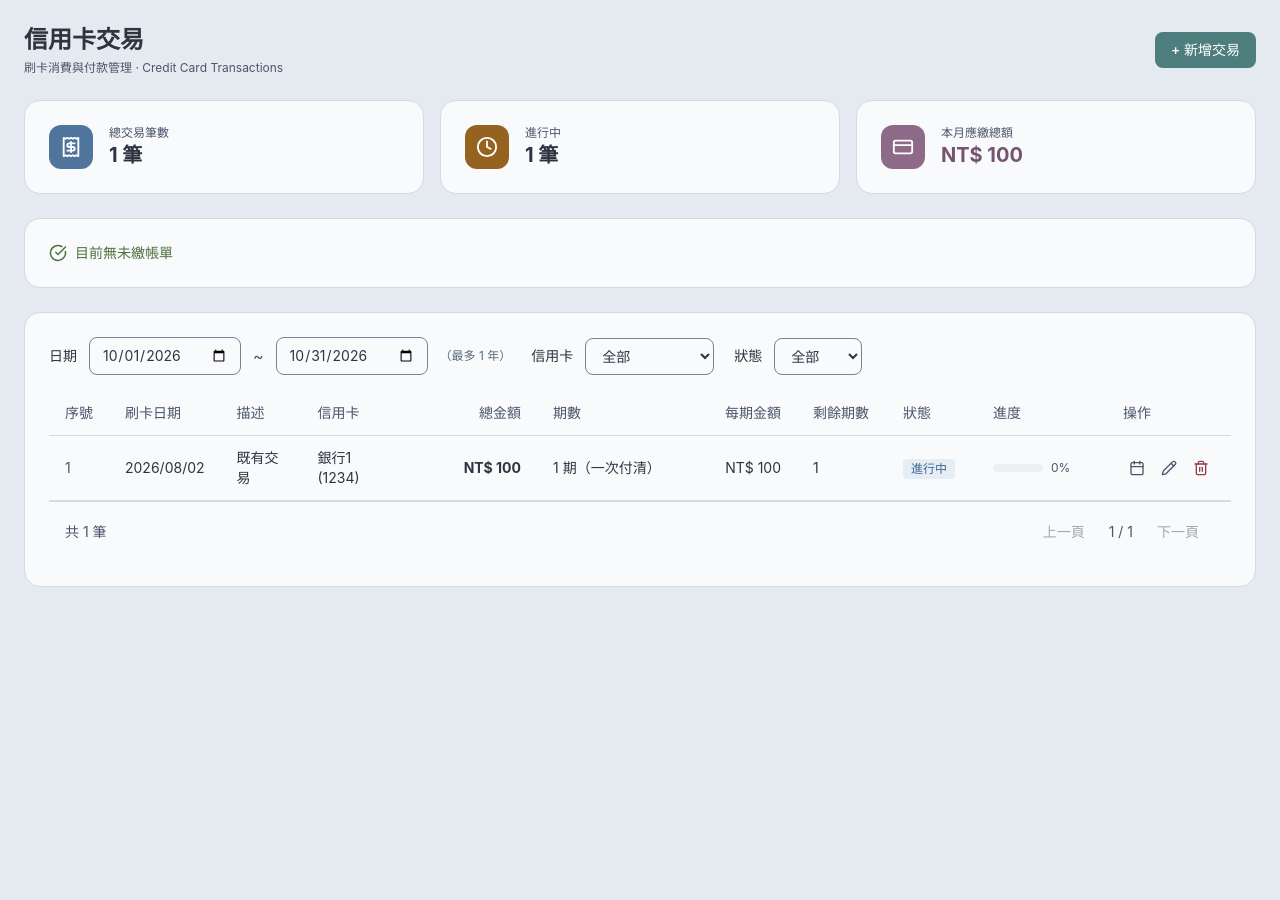
submits a manual selection after a default query failure, periods=1
Click the button "+ 新增交易" at (1205, 50), box [1155,32,1256,68]
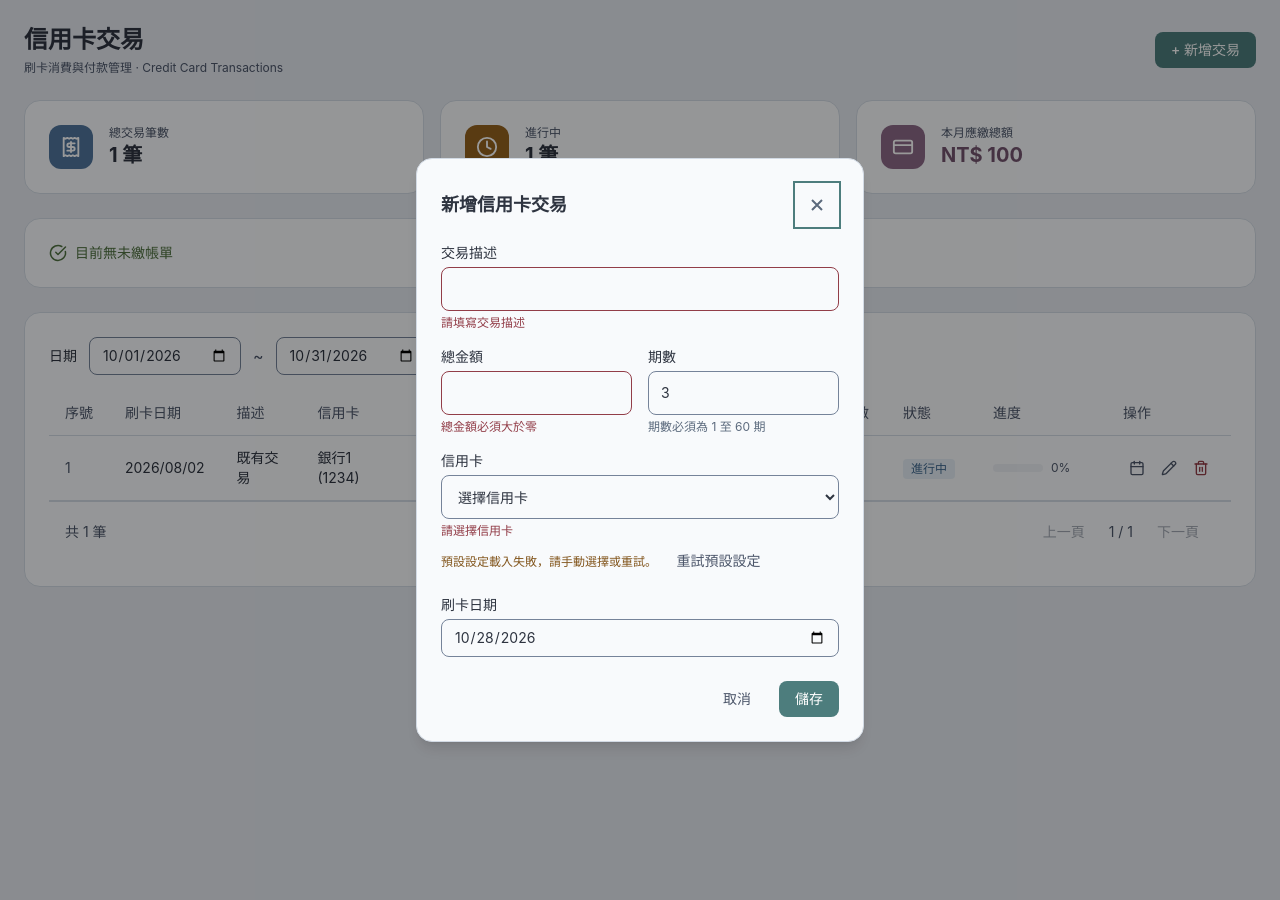
Select "銀行1 (1234)" in the dropdown labelled "信用卡" at (640, 497), box [441,475,839,519]
Type "100" into the number field labelled "總金額" at (536, 393), box [441,371,632,415]
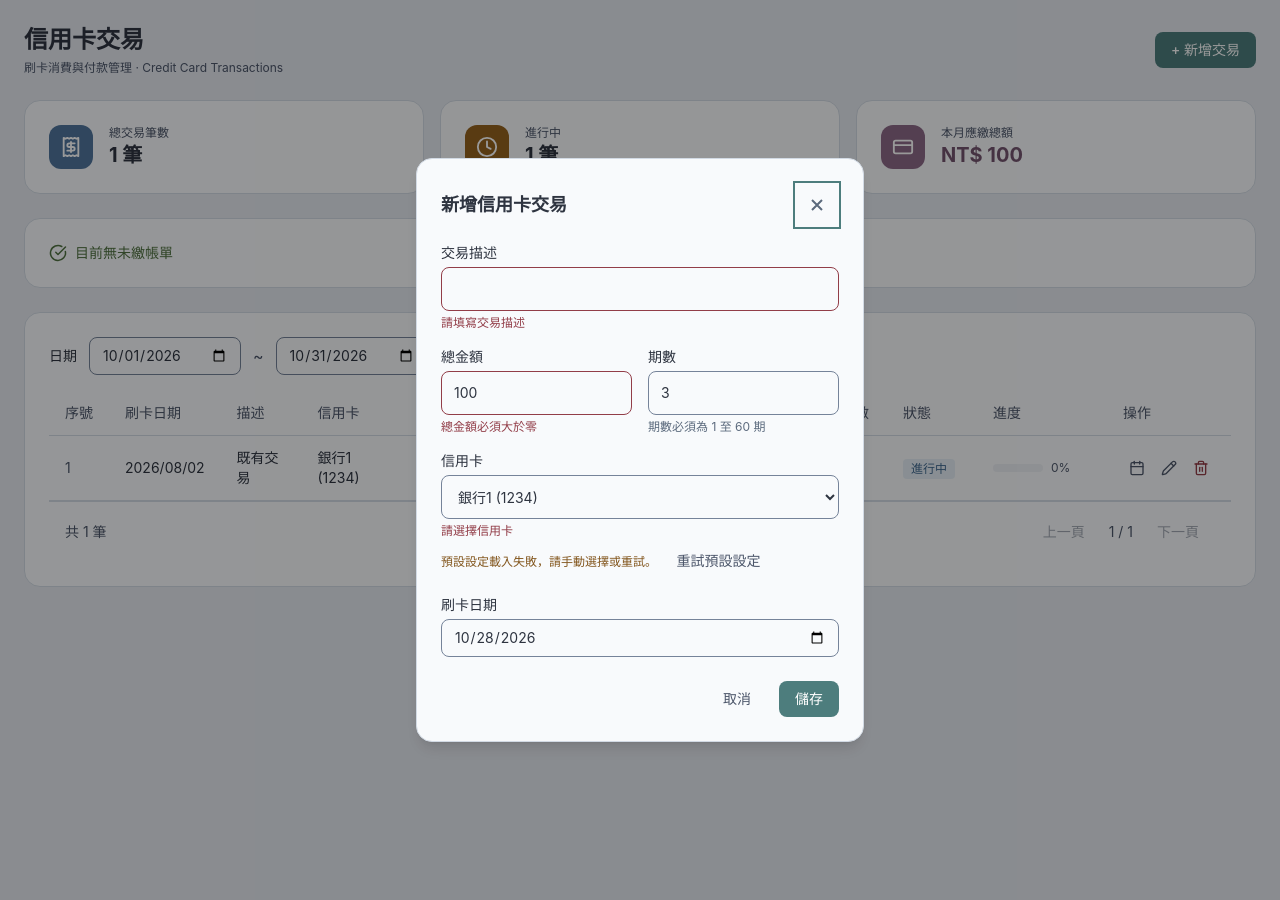
Type "測試交易" into the field with id "credit-card-transaction-description" at (640, 289), box [441,267,839,311]
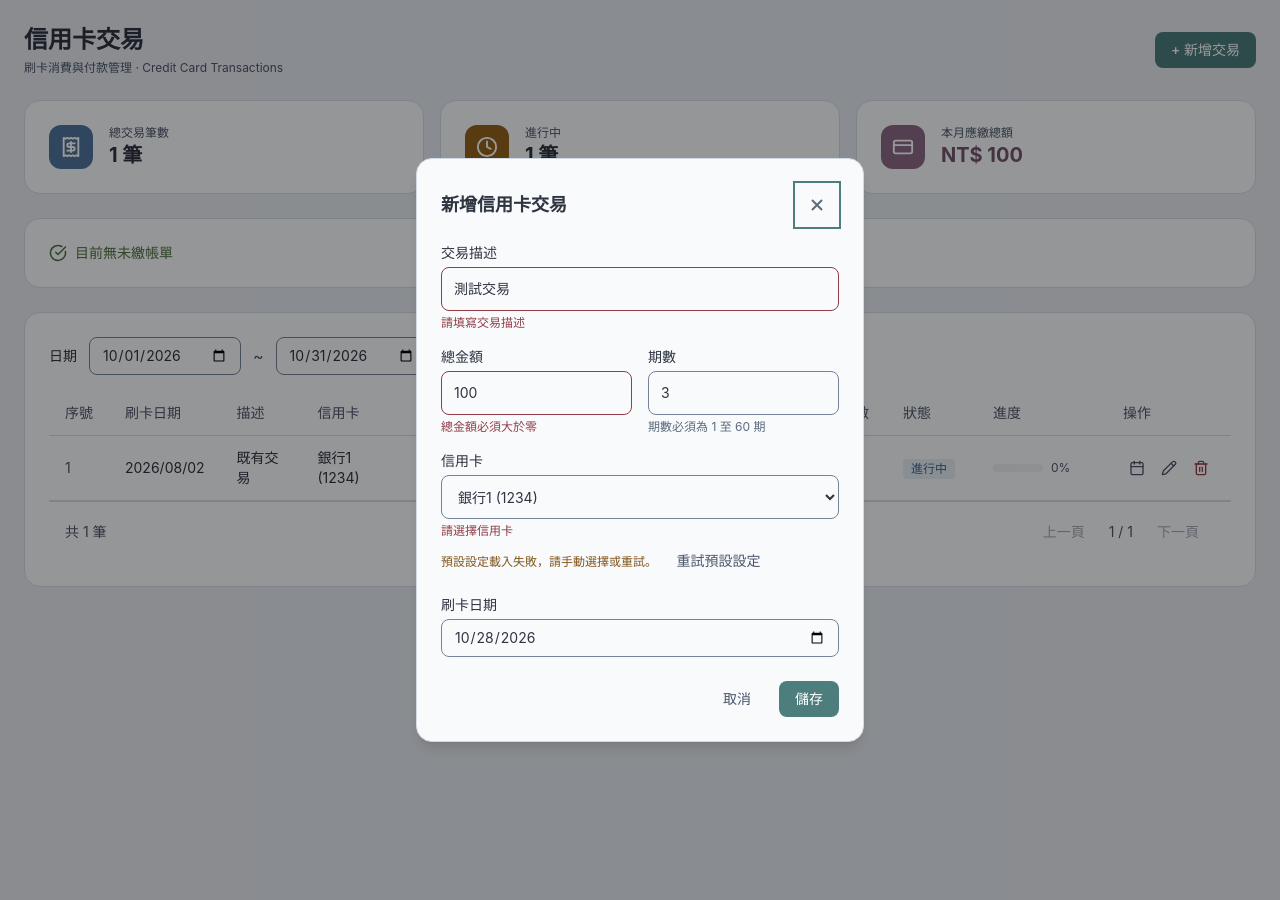
Replace the text in the number field with id "credit-card-transaction-periods" with "1" at (744, 393), box [648,371,839,415]
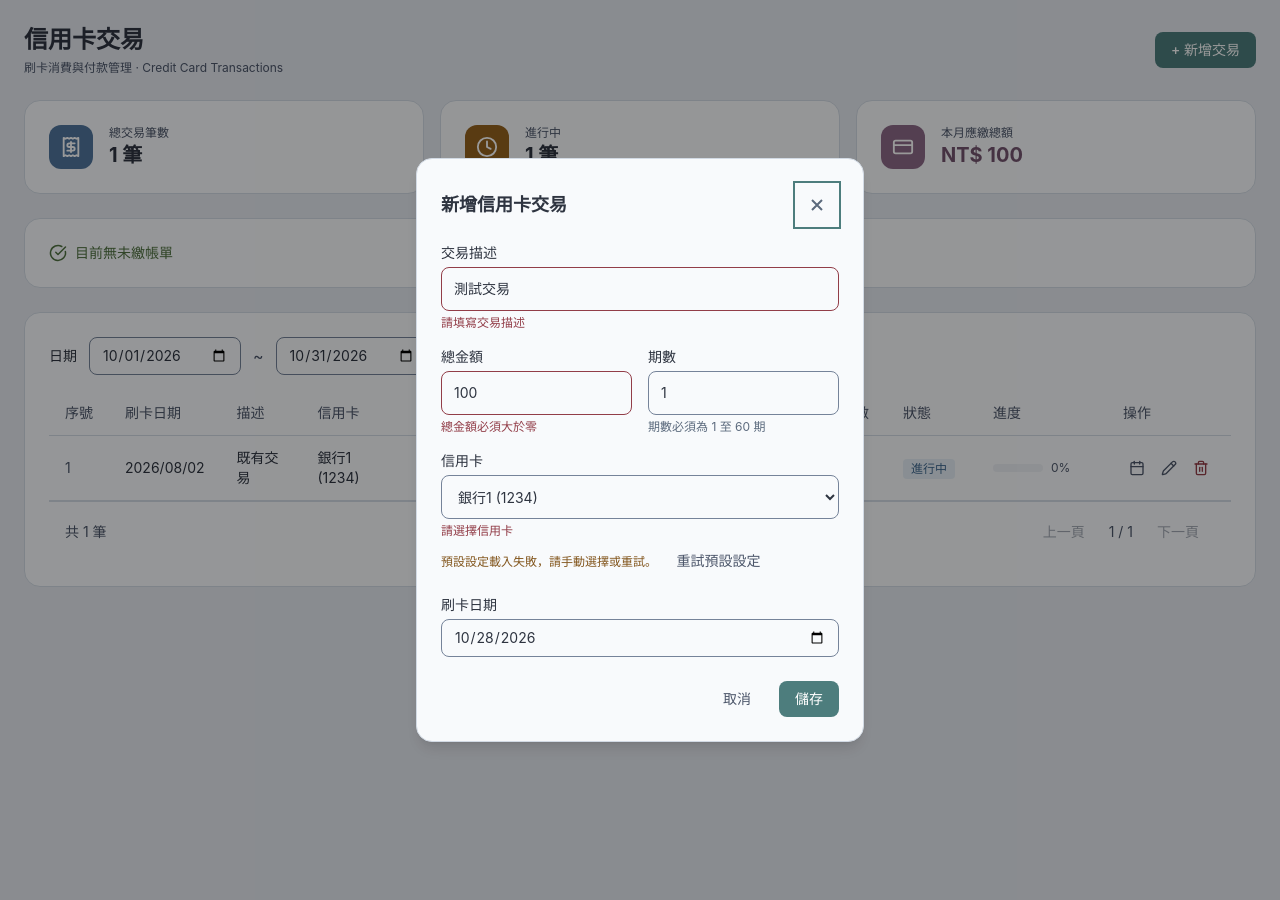
Submit the form, box [441,243,839,717]
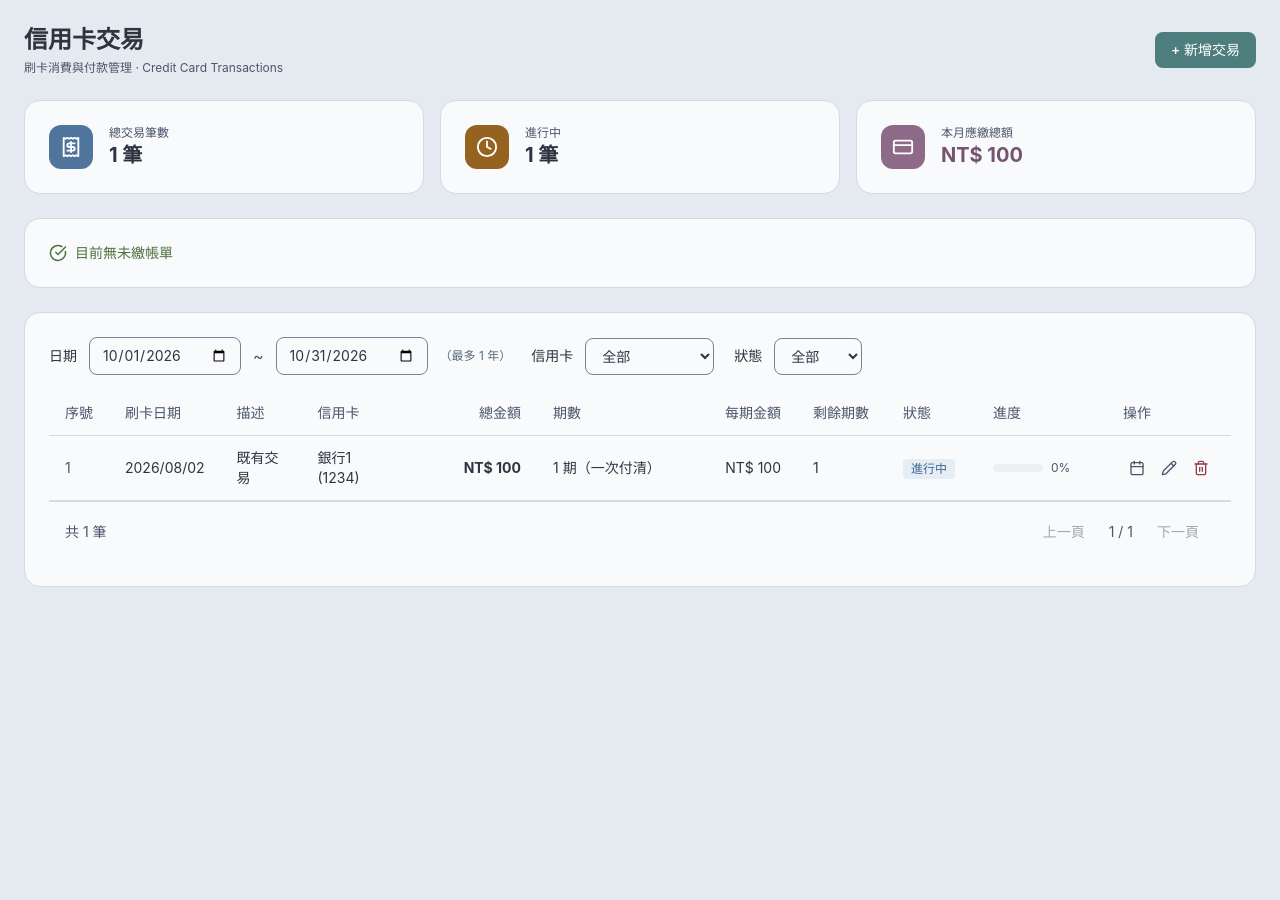
expect the dialog is gone: met
Click the button "+ 新增交易" at (1205, 50), box [1155,32,1256,68]
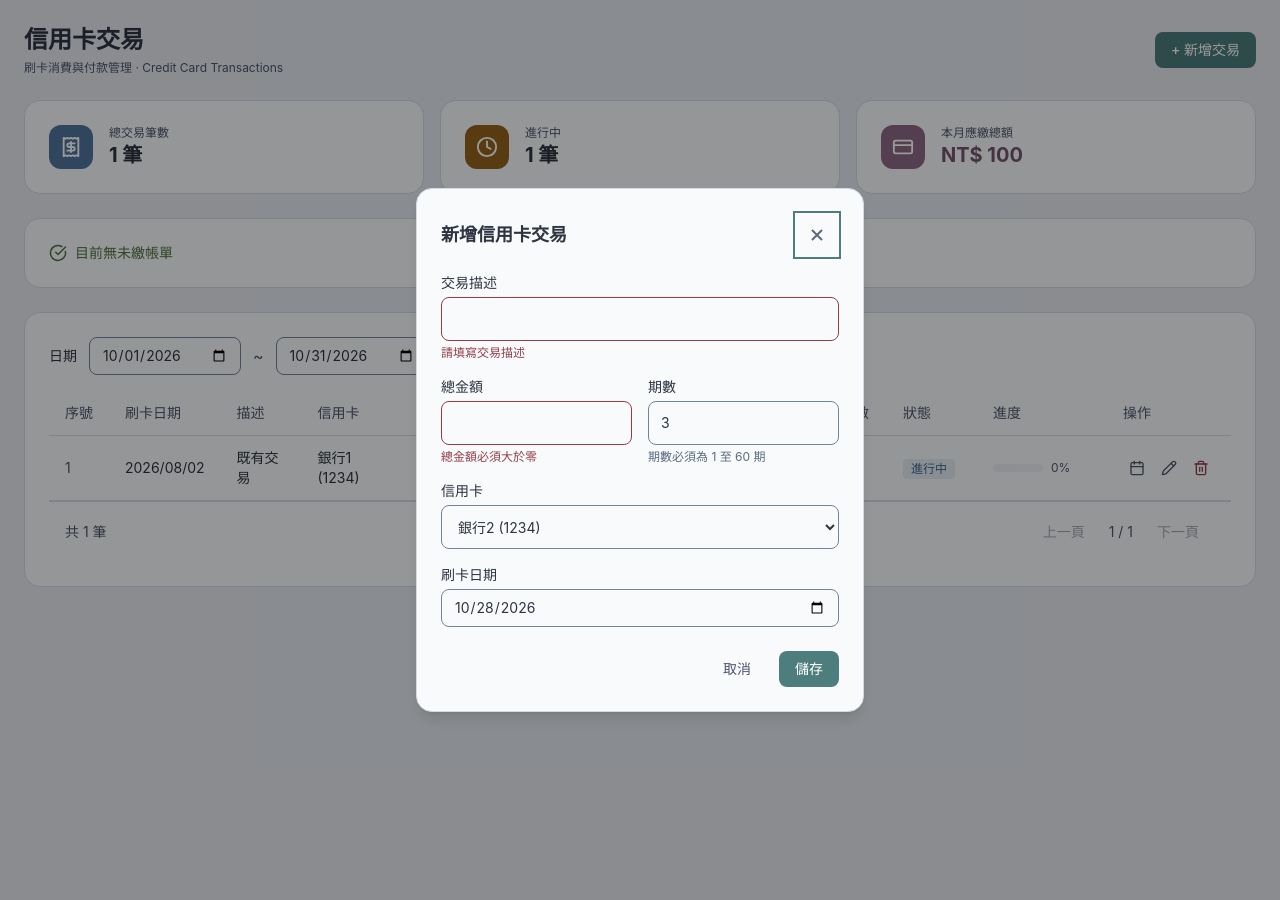
expect the dropdown labelled "信用卡" shows "銀行2 (1234)": met, box [441,505,839,549]
